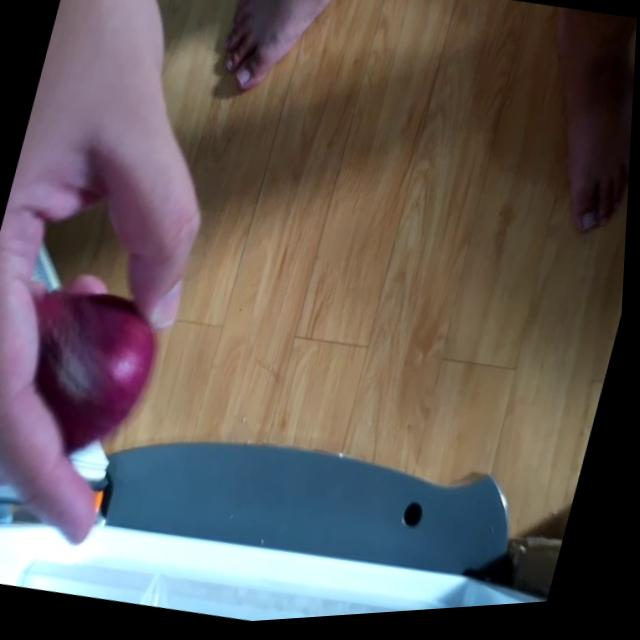onion: (0, 276, 172, 474)
